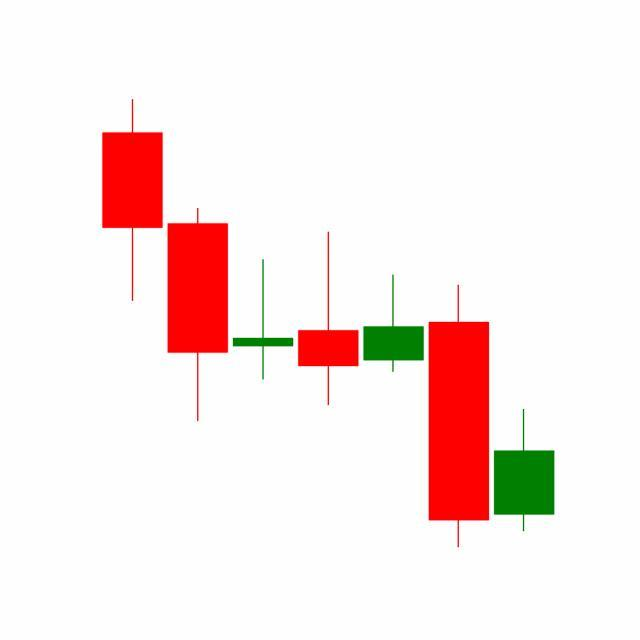Hikkake Pattern: (165, 203, 492, 548)
